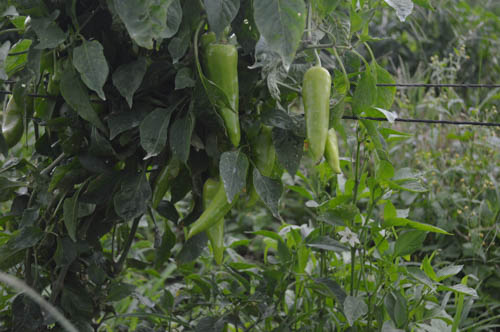ChiliPepper: (201, 42, 242, 150), (295, 60, 332, 169), (186, 176, 245, 237), (248, 122, 278, 213), (200, 180, 230, 265), (149, 153, 182, 212), (324, 126, 344, 179)
